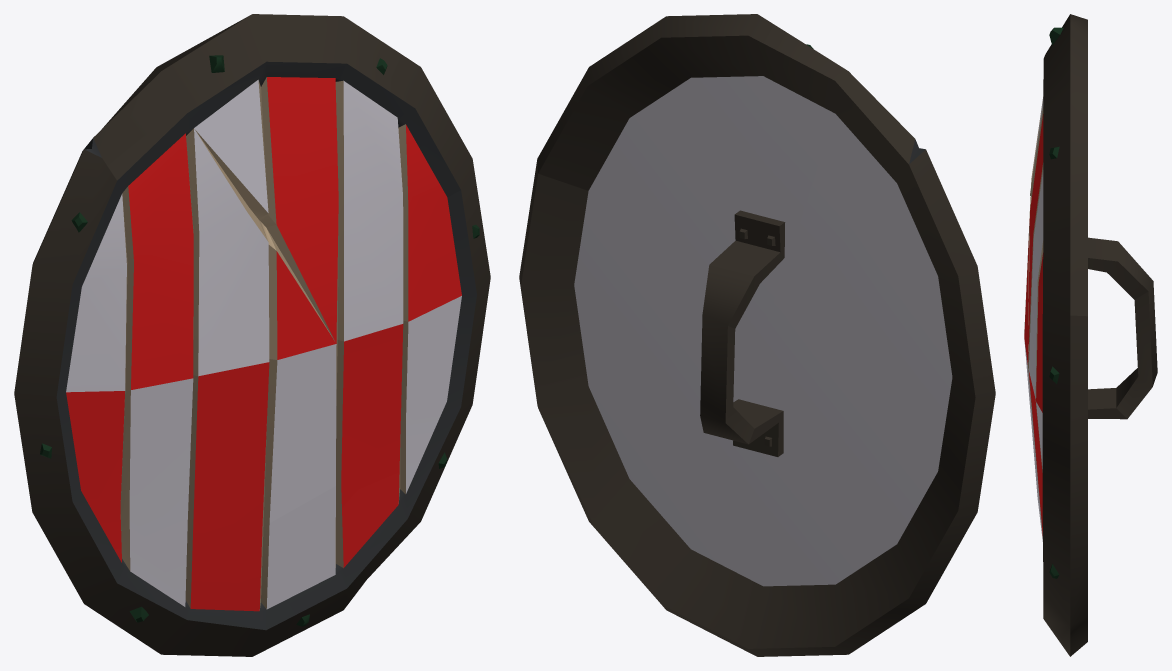
Rendered from PT_Shield_10_a.glb.
The picture shows the model from 3 angles, left to right: view 1: azimuth 30°, elevation 25°; view 2: azimuth 150°, elevation 25°; view 3: azimuth 270°, elevation 25°; orthographic projection. The views are drawn at different scales.
Parts seen in each view (by area): view 1: PT_Shield_10_a_body; view 2: PT_Shield_10_a_body, PT_Shield_10_a_handle; view 3: PT_Shield_10_a_body, PT_Shield_10_a_handle.
Boxes of the visible parts, <box> form: PT_Shield_10_a_body: <box>14,14,490,656</box>; PT_Shield_10_a_body: <box>519,14,995,656</box>; PT_Shield_10_a_handle: <box>700,210,785,456</box>; PT_Shield_10_a_body: <box>1024,14,1087,656</box>; PT_Shield_10_a_handle: <box>1088,237,1157,419</box>.
Size of the model in its own units: 0.5217 by 0.6725 by 0.1323.
Materials: 1 (1 with a texture image).
